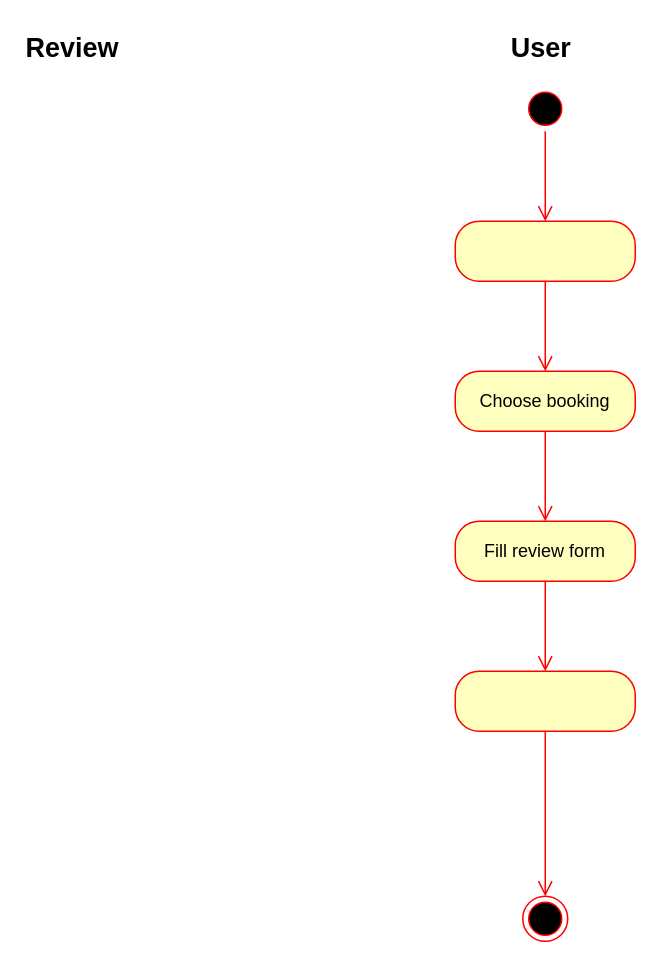
The diagram is 662 pixels wide and 968 high, and some of its shapes have lost their labels. The shapes that lost their labels are listed below. From the top down, each one's centre as x and y in pixels, then its label:
pixel 544 250: Open bookings
pixel 544 700: Submit form
